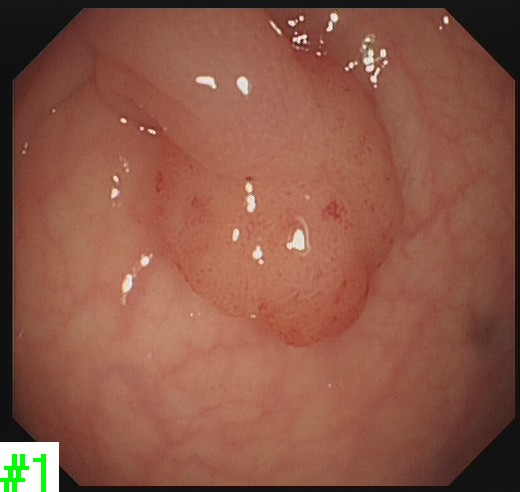adenoma: (150, 49, 408, 350)
